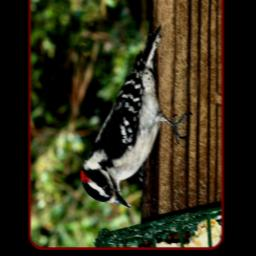Woodpecker: (79, 27, 195, 208)
